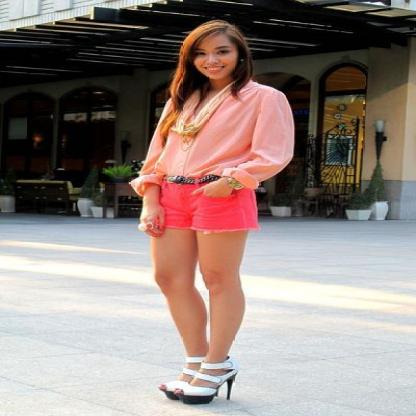shirt: (129, 80, 293, 207)
shoe: (173, 354, 243, 404)
shorts: (163, 183, 257, 230)
